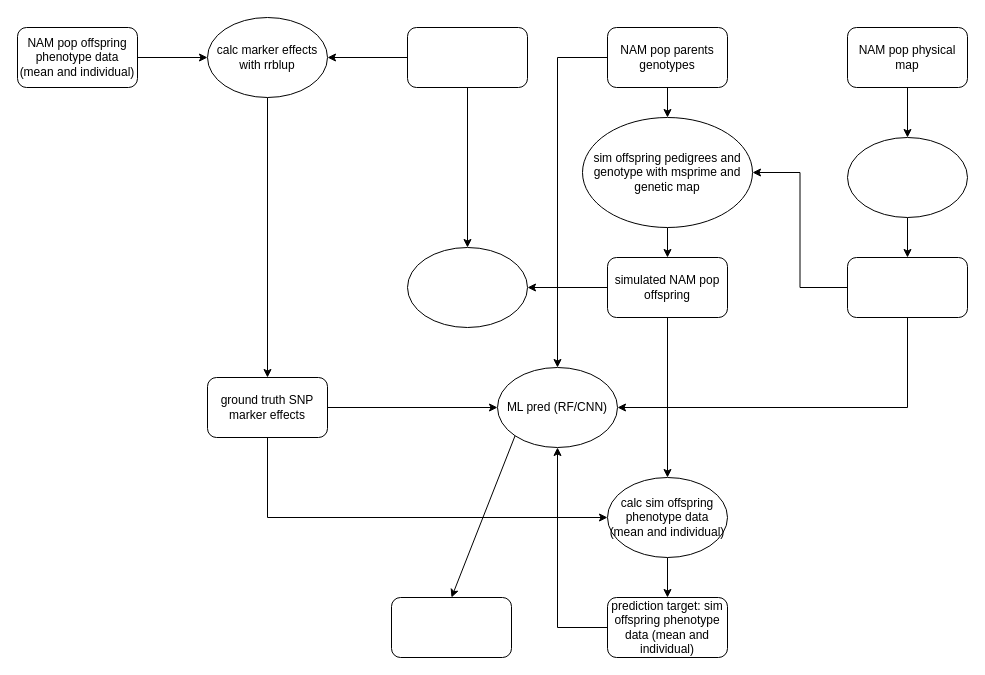
This 985x675 diagram has some shape labels left out. Each missing label, with the centre of its shape:
"calc recombination parameters based on physical map" belongs at [907,177].
"create summary stats and validate sim" belongs at [467,287].
"genetic map (position, cM/bp)" belongs at [907,287].
"NAM pop offspring genotype data" belongs at [467,57].
"prediction accuracy + best cross parent prediction (max of target pred)" belongs at [451,627].
